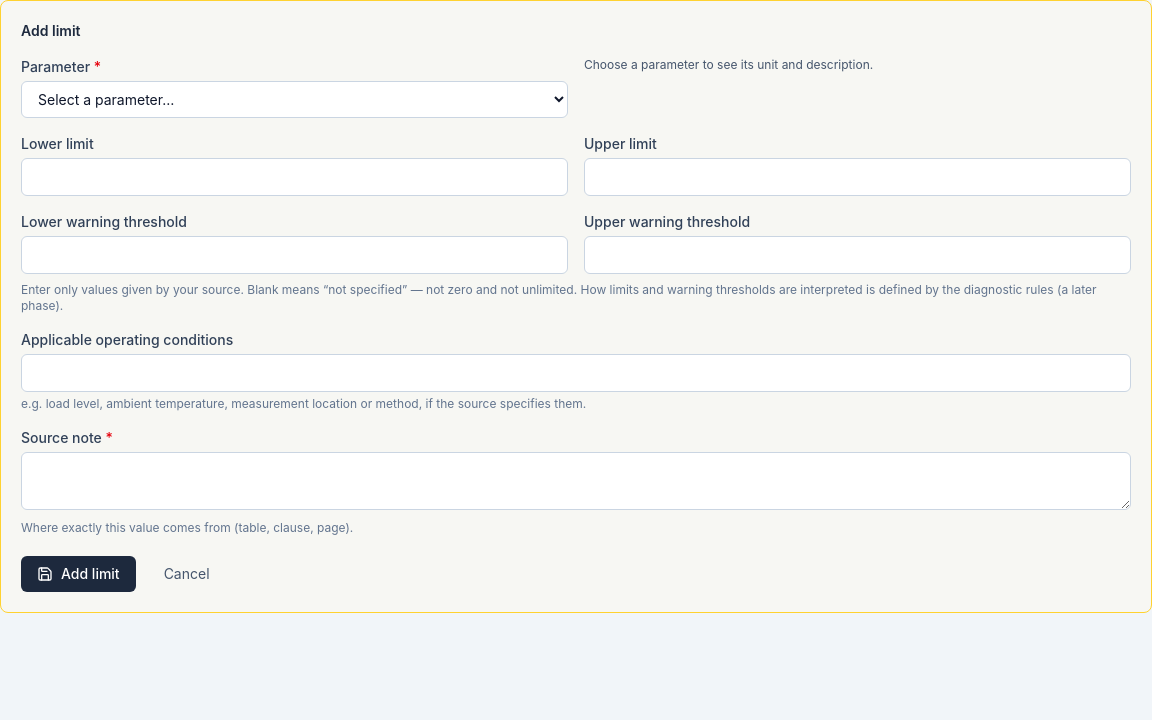
LimitForm › shows the canonical unit from the catalog and offers no free-text unit field
Select "Temperature (°C)" in the dropdown labelled "Parameter *": (294, 100) [21,81,568,118]
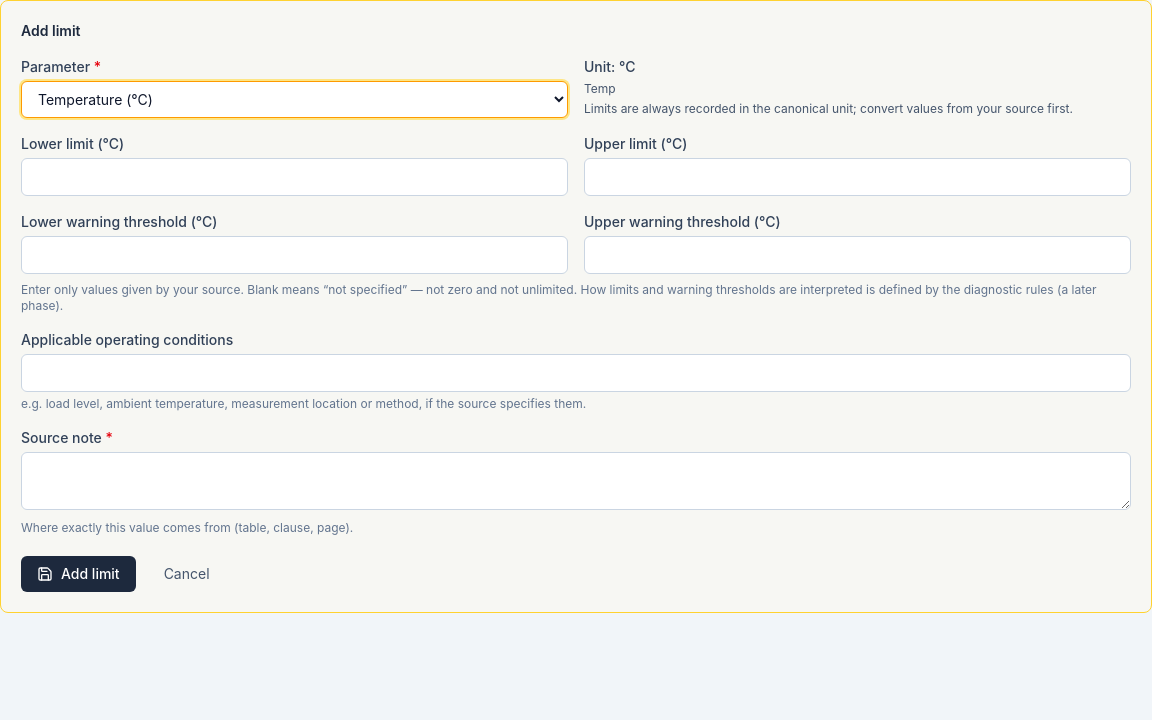
Check: the field labelled "Upper limit (°C)" is shown, box [584,158,1131,196]
Check: the text "Unit: °C" is shown, box [584,58,636,75]
